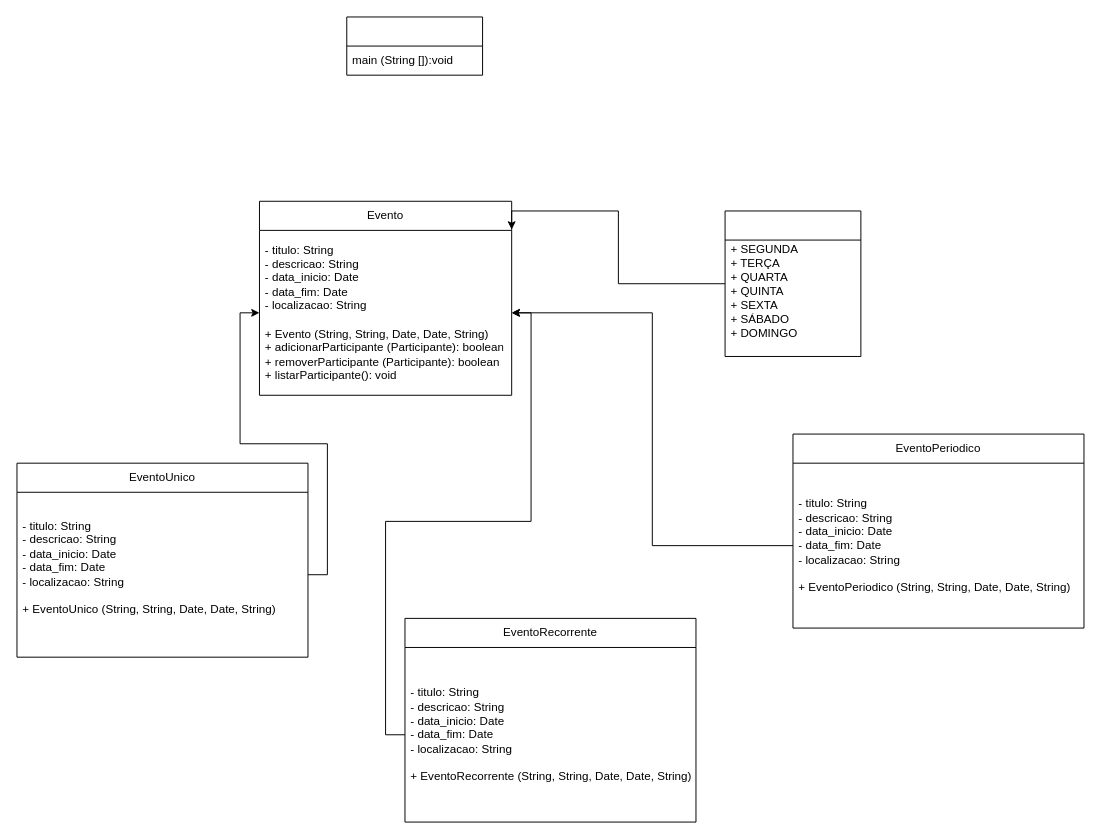
Image size: 1101x839. Some labels were removed from this diagram. Each missing label, with the box of its shape:
<<enum>> DiaSemana: (724, 210, 861, 356)
Programa: (346, 16, 483, 75)
